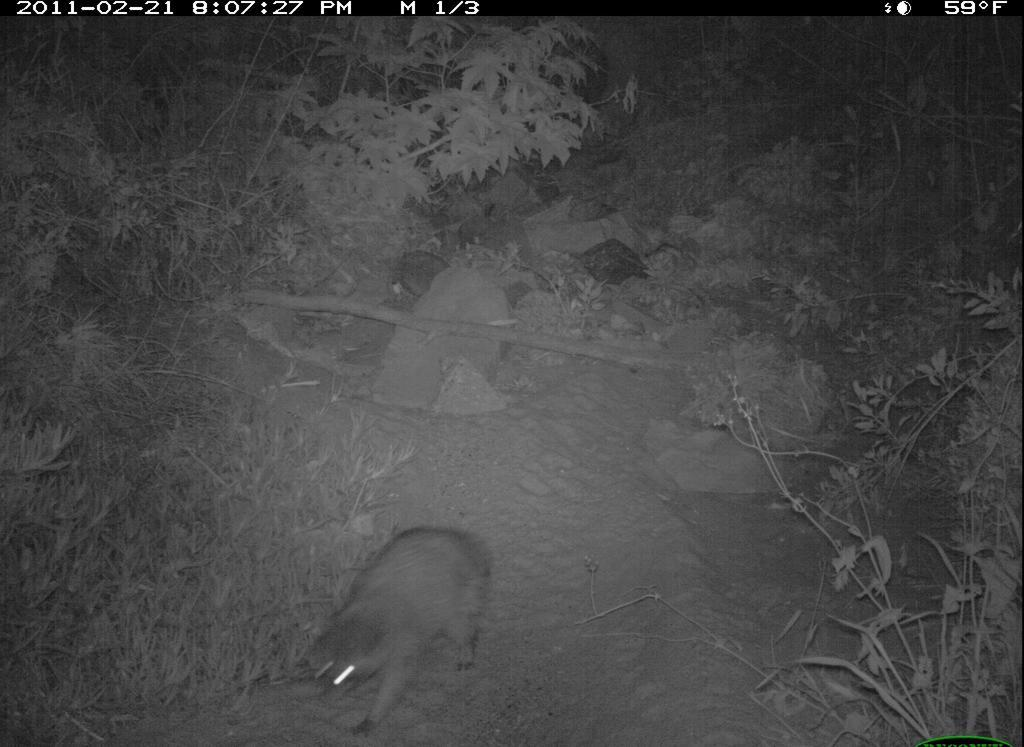raccoon: (295, 515, 501, 743)
